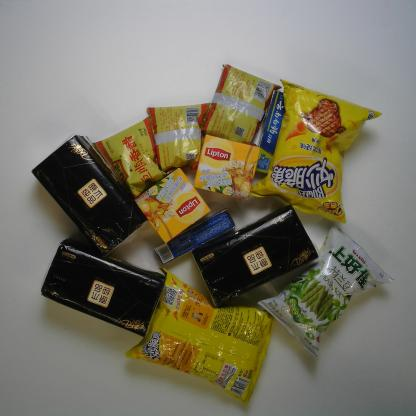Instant Drink: (135, 168, 211, 244), (193, 134, 260, 200)
Personal Hygiene: (153, 208, 237, 266), (255, 89, 286, 175)
Puffed Food: (124, 267, 275, 406), (249, 78, 383, 224), (257, 223, 394, 359)
Seasoner: (91, 115, 176, 200), (200, 64, 283, 146), (146, 102, 212, 174)
Tissue: (30, 133, 151, 257), (190, 204, 318, 307), (40, 237, 166, 338)
